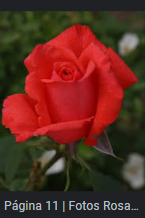RedRose: (2, 23, 141, 151)
